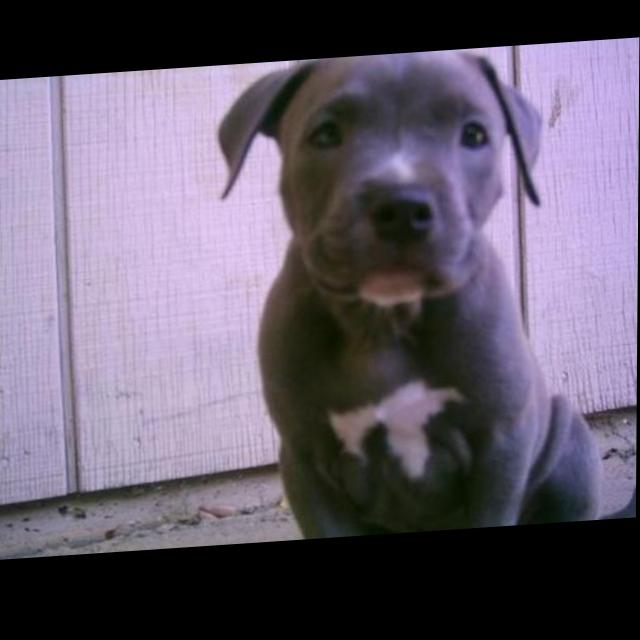amstaff: (214, 49, 611, 548)
